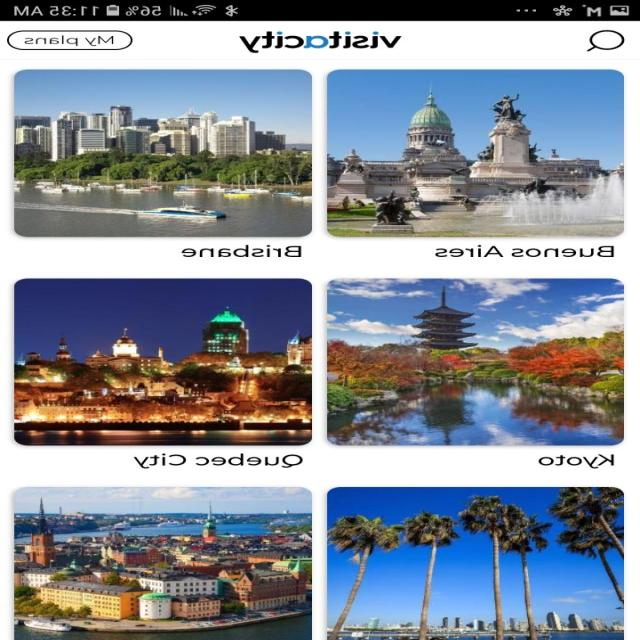Icon: (586, 30, 625, 52)
Image: (15, 69, 314, 237), (327, 69, 625, 237), (15, 278, 313, 445), (327, 278, 625, 445), (15, 486, 312, 640), (327, 486, 624, 640), (239, 31, 403, 53)
Text: (134, 452, 304, 469), (434, 244, 614, 257), (182, 244, 302, 257), (538, 454, 616, 468)
TextButton: (7, 30, 133, 50)
